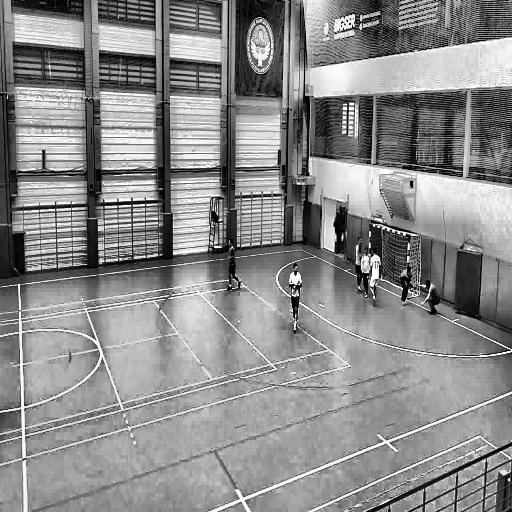player: (288, 262, 303, 334), (225, 236, 242, 293), (416, 282, 442, 318), (399, 264, 416, 308), (369, 246, 381, 308), (354, 235, 364, 295), (361, 246, 371, 299), (332, 209, 342, 257)
